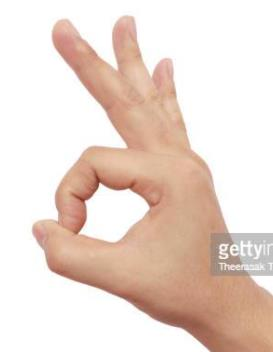left: (28, 8, 230, 330)
